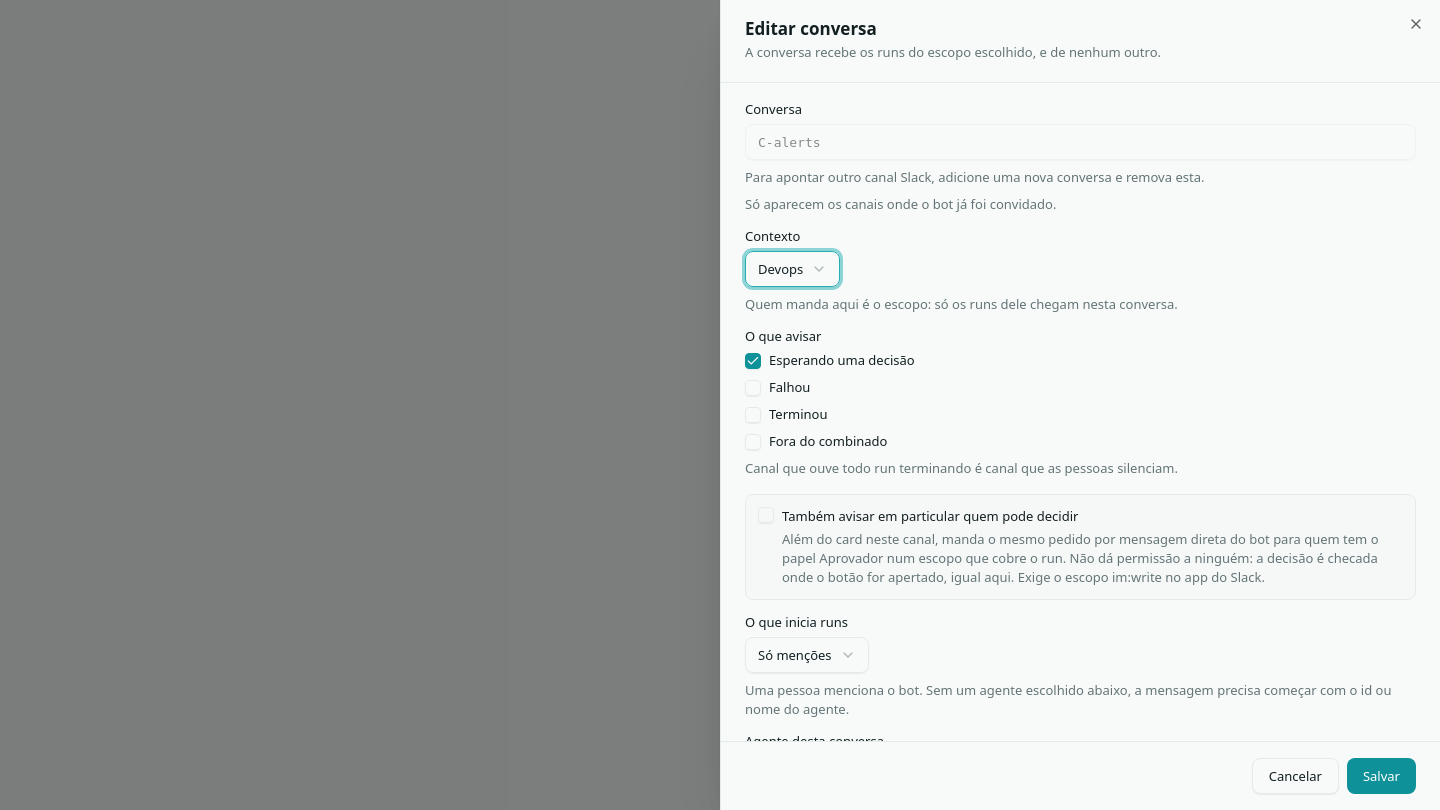
Test: conversation configuration › offers private approvals only where parked runs are announced
Check: the text "Também avisar em particular quem pode decidir" is shown, box left=782, top=507, right=1078, bottom=525
Click the text "Esperando uma decisão" at (830, 360), box left=745, top=351, right=915, bottom=369
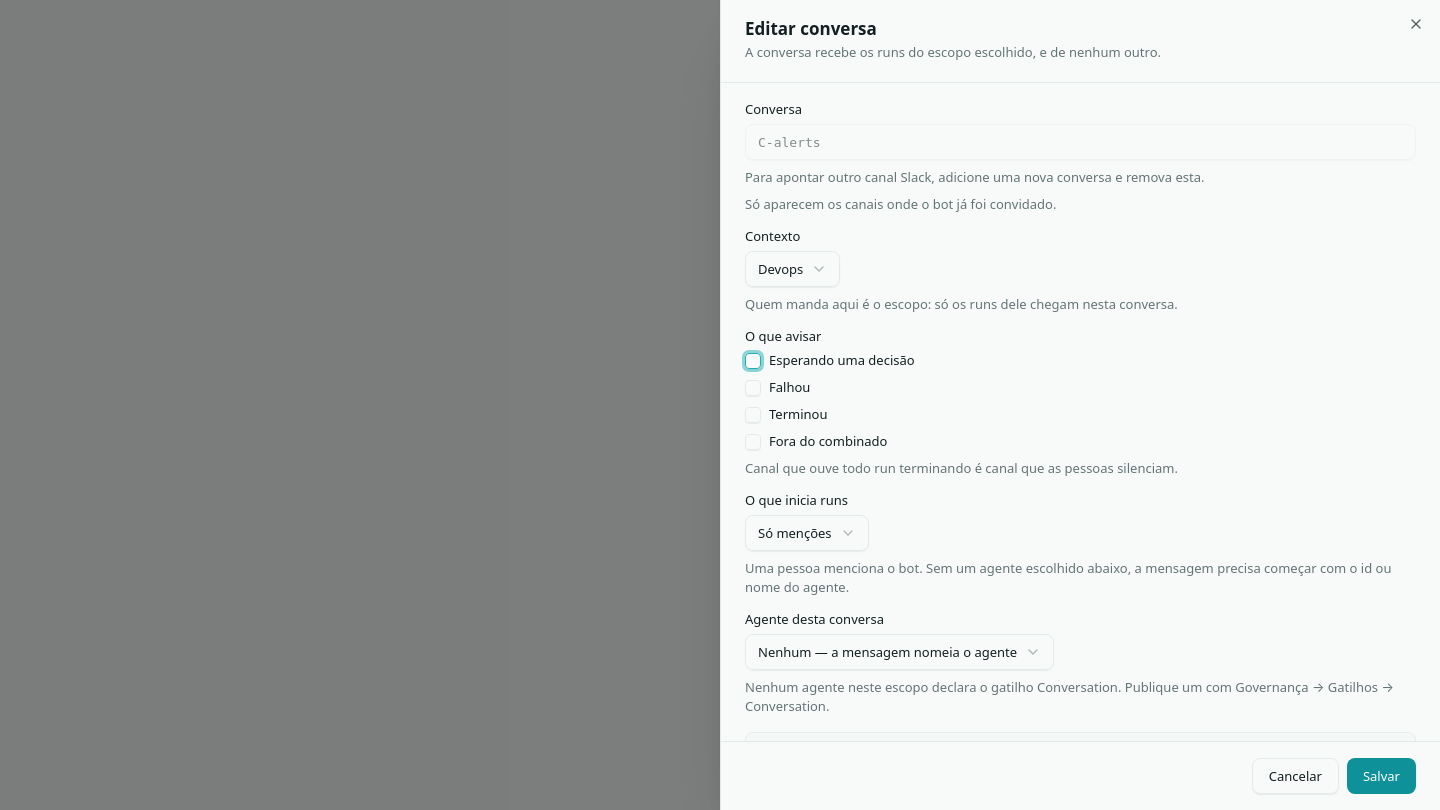
Check: the text "Também avisar em particular quem pode decidir" is gone
